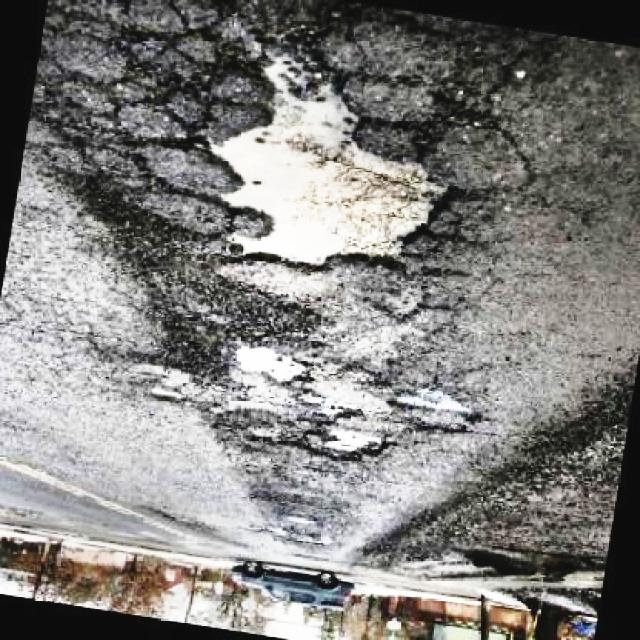pothole: (188, 32, 466, 274), (77, 180, 334, 363), (395, 380, 480, 445), (304, 419, 394, 466), (228, 336, 312, 384)
